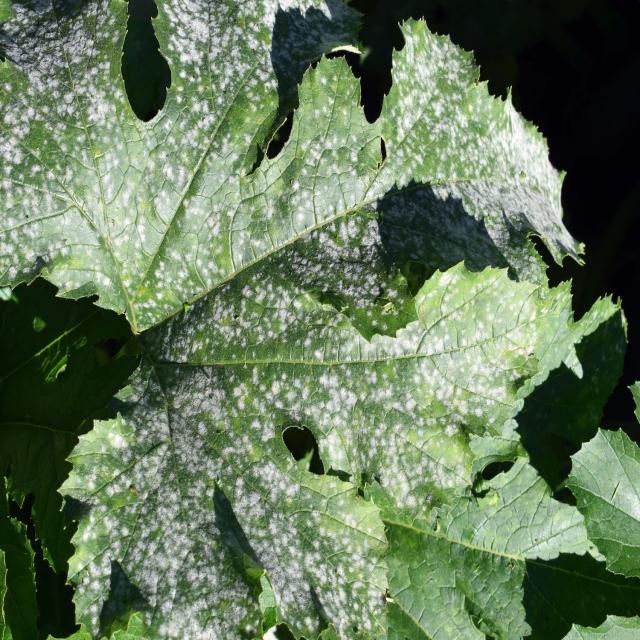Powdery Mildew: (2, 1, 591, 640)
